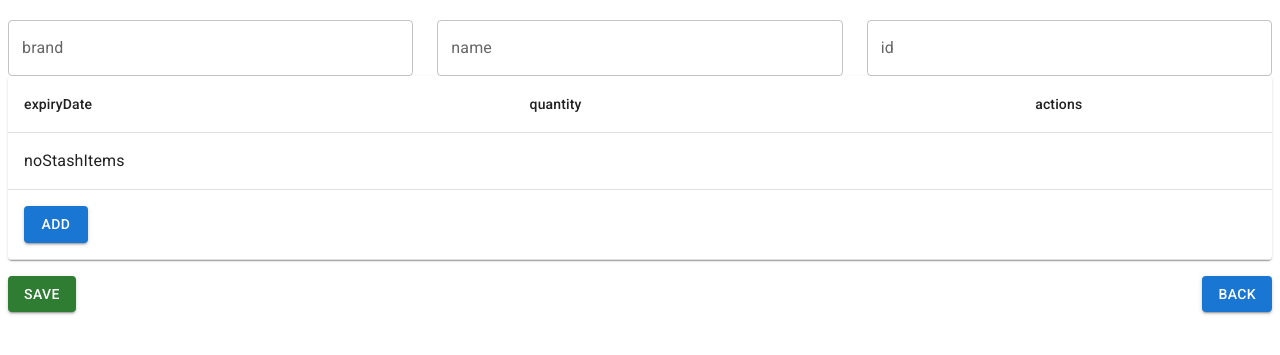
Validation › requires an ID
The image size is (1280, 355).
What coordinates should you click on to do the following:
click the button "save"
I would click on:
 (42, 294)
Its box is [8,276,76,312].
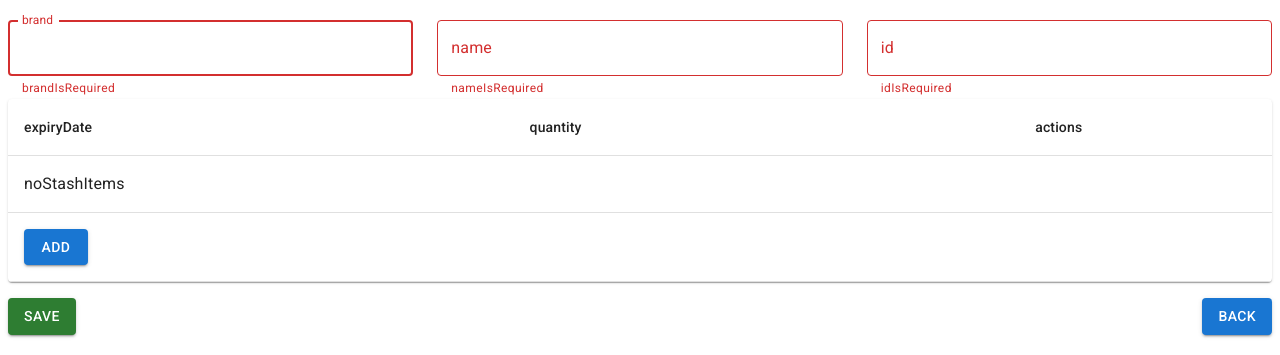
Now the text "idIsRequired" is shown, box [881,81,952,95]
